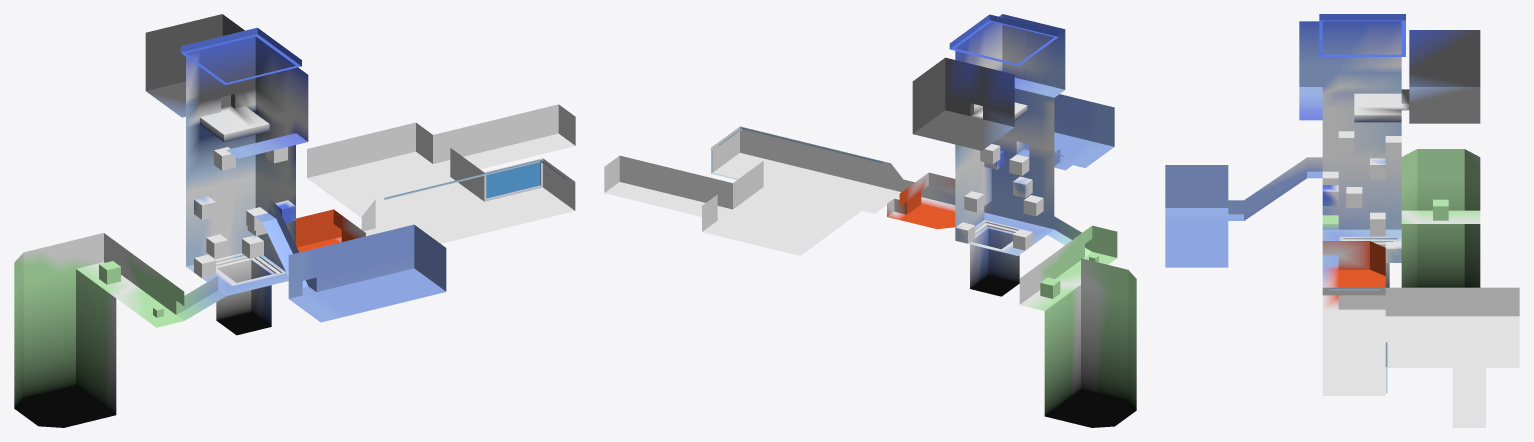
The model's file is baking.glb.
3 views of the same model, side by side, from view 1: azimuth 30°, elevation 25°; view 2: azimuth 150°, elevation 25°; view 3: azimuth 270°, elevation 25° (orthographic). The views are drawn at different scales.
Visible parts, largest first — view 1: GameMap; view 2: GameMap; view 3: GameMap.
Boxes of the visible parts, bbox=[...] form: GameMap: bbox=[14, 14, 575, 427]; GameMap: bbox=[604, 14, 1136, 427]; GameMap: bbox=[1165, 14, 1519, 427].
Size of the model in its own units: 79.6 by 48.04 by 45.
4 materials, 3 textured.
